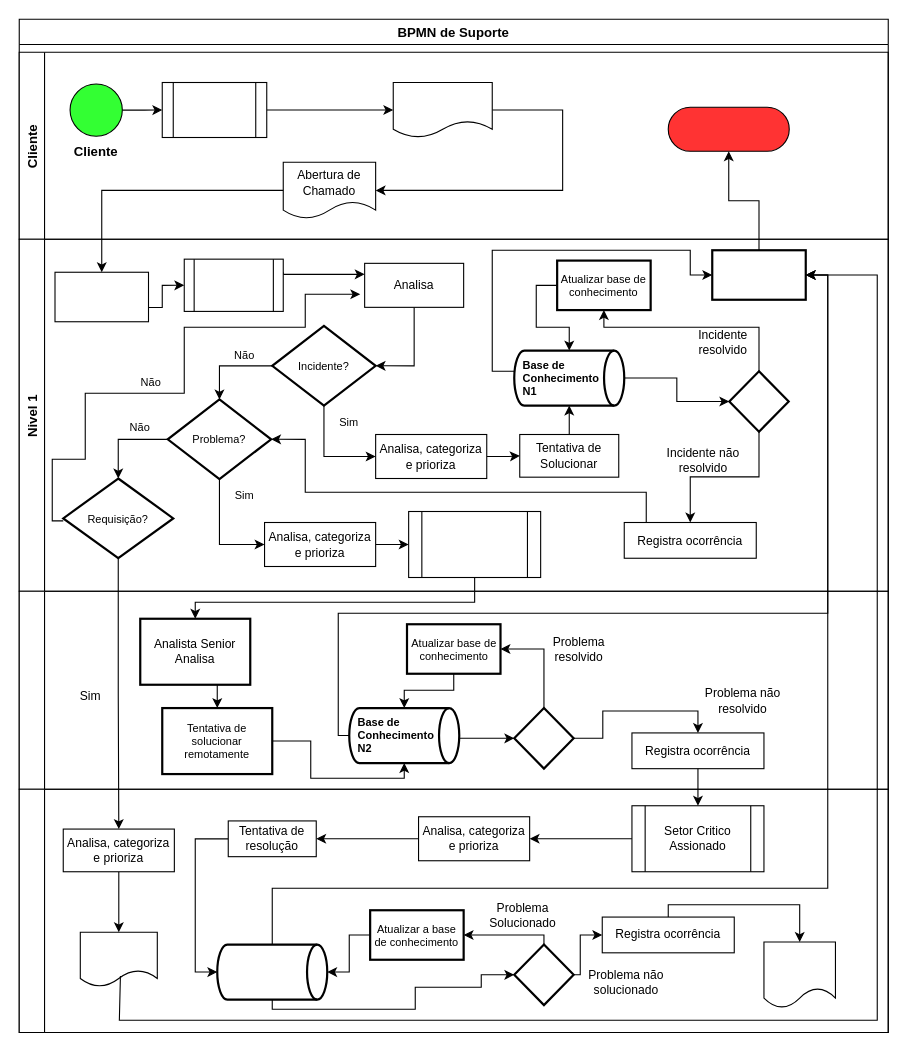
This 908x1053 diagram has some shape labels left out. The box of each missing label's shape, as (x1, y1, x2, y2) in pixels:
Abertura de Requisição: (79, 931, 157, 987)
Acessar a plataforma de suporte: (161, 81, 267, 138)
Base de Conhecimento N3: (216, 943, 328, 1000)
Comunicar o Cliente: (711, 249, 806, 300)
Criar uma GMUD: (763, 941, 835, 1008)
Encaminhamento para área técnica: (408, 510, 541, 578)
Inicialização: (183, 258, 283, 311)
Nivel 2: (18, 590, 888, 789)
Nivel 3: (18, 788, 888, 1033)
Preenchimento da solicitação: (392, 81, 492, 138)
Processo de Atendimento: (54, 271, 148, 322)
Termino: (667, 106, 789, 151)
